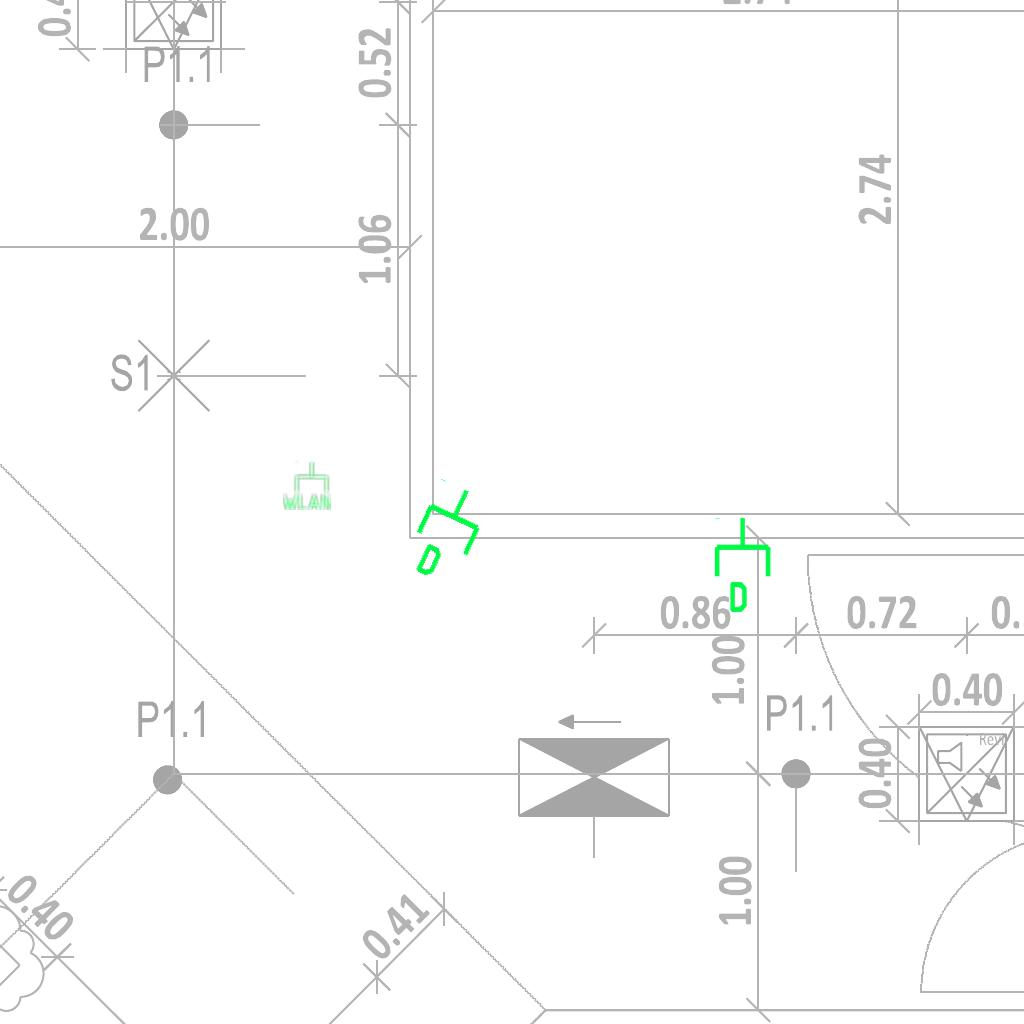Datenanschluss_einfach: (396, 474, 501, 594), (710, 515, 779, 615)
WLAN: (281, 460, 333, 512)
